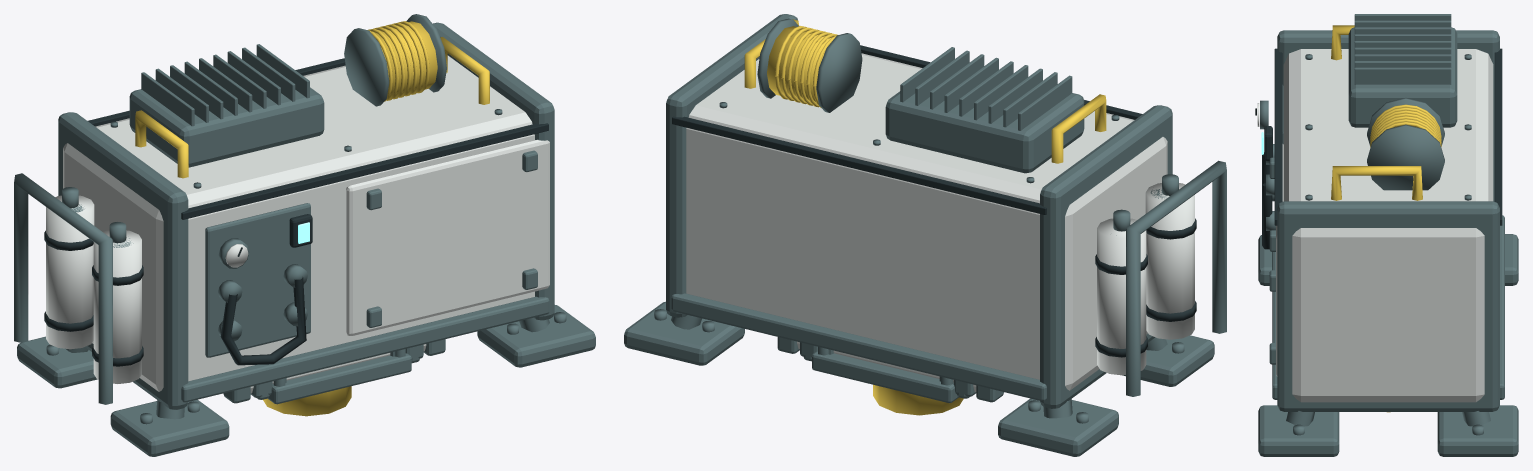
File: calypso_field_kit.glb
3 views of the same model, side by side, from view 1: azimuth 30°, elevation 25°; view 2: azimuth 150°, elevation 25°; view 3: azimuth 270°, elevation 25° (orthographic). The views are drawn at different scales.
Visible parts, largest first — view 1: Calypso pod Calypso enamel, Calypso pod Calypso structural steel, Calypso pod Calypso rubber, Calypso pod Calypso safety fittings, Supply copper Calypso structural steel, Calypso buoy Calypso safety fittings, Supply alloy Calypso structural steel; view 2: Calypso pod Calypso enamel, Calypso pod Calypso structural steel, Calypso pod Calypso rubber, Calypso pod Calypso safety fittings, Supply copper Calypso structural steel, Calypso buoy Calypso safety fittings, Supply alloy Calypso structural steel; view 3: Calypso pod Calypso enamel, Calypso pod Calypso structural steel, Calypso pod Calypso rubber, Calypso pod Calypso safety fittings.
Part boxes in pixels (x1,y1,x2,y2): Calypso pod Calypso enamel: [46, 55, 549, 391]; Calypso pod Calypso structural steel: [14, 14, 595, 456]; Calypso pod Calypso rubber: [44, 58, 548, 366]; Calypso pod Calypso safety fittings: [135, 21, 489, 178]; Supply copper Calypso structural steel: [268, 349, 411, 404]; Calypso buoy Calypso safety fittings: [263, 386, 351, 416]; Supply alloy Calypso structural steel: [223, 339, 445, 403]; Calypso pod Calypso enamel: [686, 53, 1194, 390]; Calypso pod Calypso structural steel: [624, 14, 1226, 456]; Calypso pod Calypso rubber: [672, 45, 1196, 357]; Calypso pod Calypso safety fittings: [744, 19, 1106, 163]; Supply copper Calypso structural steel: [812, 346, 958, 403]; Calypso buoy Calypso safety fittings: [873, 384, 963, 415]; Supply alloy Calypso structural steel: [777, 337, 1003, 402]; Calypso pod Calypso enamel: [1257, 49, 1493, 402]; Calypso pod Calypso structural steel: [1258, 14, 1518, 456]; Calypso pod Calypso rubber: [1255, 48, 1502, 249]; Calypso pod Calypso safety fittings: [1331, 25, 1441, 200].
Size of the model in its own units: 3.65 by 2.5 by 1.82.
